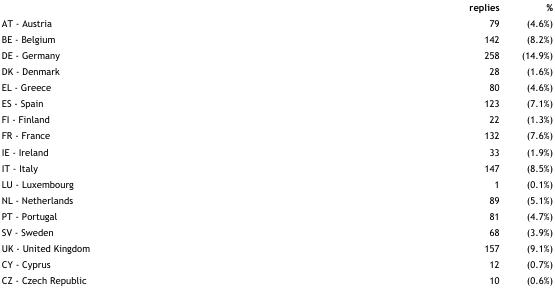table: (0, 0, 551, 284)
table column: (0, 0, 278, 284), (278, 0, 509, 284), (509, 0, 551, 284)
table column header: (0, 0, 551, 14)
table row: (0, 94, 551, 111), (0, 14, 551, 30), (0, 30, 551, 46), (0, 46, 551, 62), (0, 62, 551, 78), (0, 78, 551, 94), (0, 111, 551, 127), (0, 127, 551, 143), (0, 143, 551, 159), (0, 159, 551, 175), (0, 175, 551, 191), (0, 191, 551, 207), (0, 207, 551, 223), (0, 223, 551, 239), (0, 239, 551, 255), (0, 255, 551, 271), (0, 0, 551, 14), (0, 271, 551, 284)
